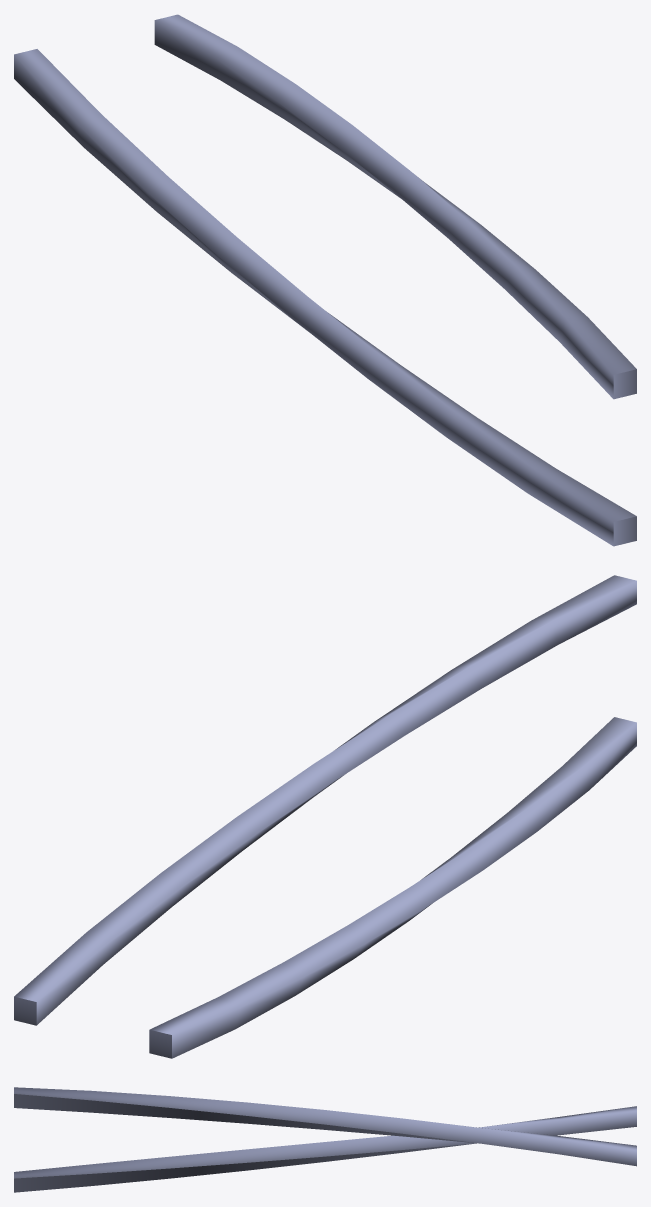
The model's file is railroad-rail-straight-skew-right-side.glb.
3 views of the same model, one above another, from view 1: azimuth 30°, elevation 25°; view 2: azimuth 150°, elevation 25°; view 3: azimuth 270°, elevation 25° (orthographic). The views are drawn at different scales.
Parts seen in each view (by area): view 1: railroad-rail-straight-skew-right-side; view 2: railroad-rail-straight-skew-right-side; view 3: railroad-rail-straight-skew-right-side.
Part boxes in pixels (bbox=[...]): railroad-rail-straight-skew-right-side: bbox=[14, 14, 636, 546]; railroad-rail-straight-skew-right-side: bbox=[14, 575, 636, 1058]; railroad-rail-straight-skew-right-side: bbox=[14, 1087, 636, 1192].
Size of the model in its own units: 0.7136 by 0.7136 by 4.
